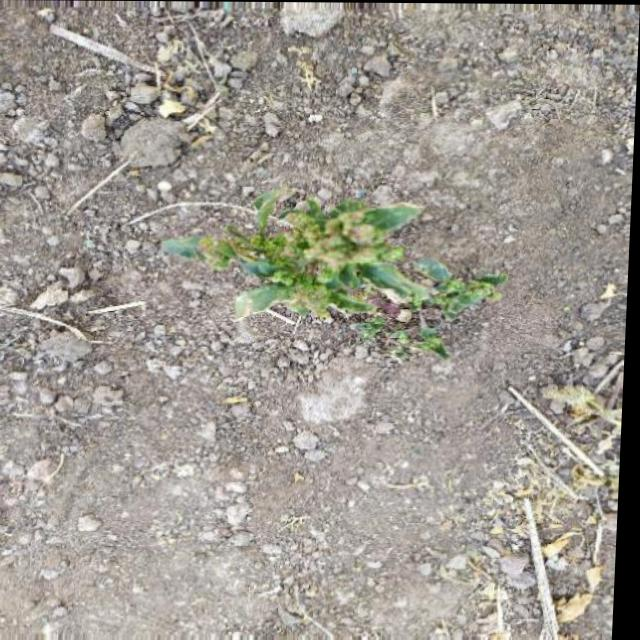weed: (209, 184, 515, 395)
